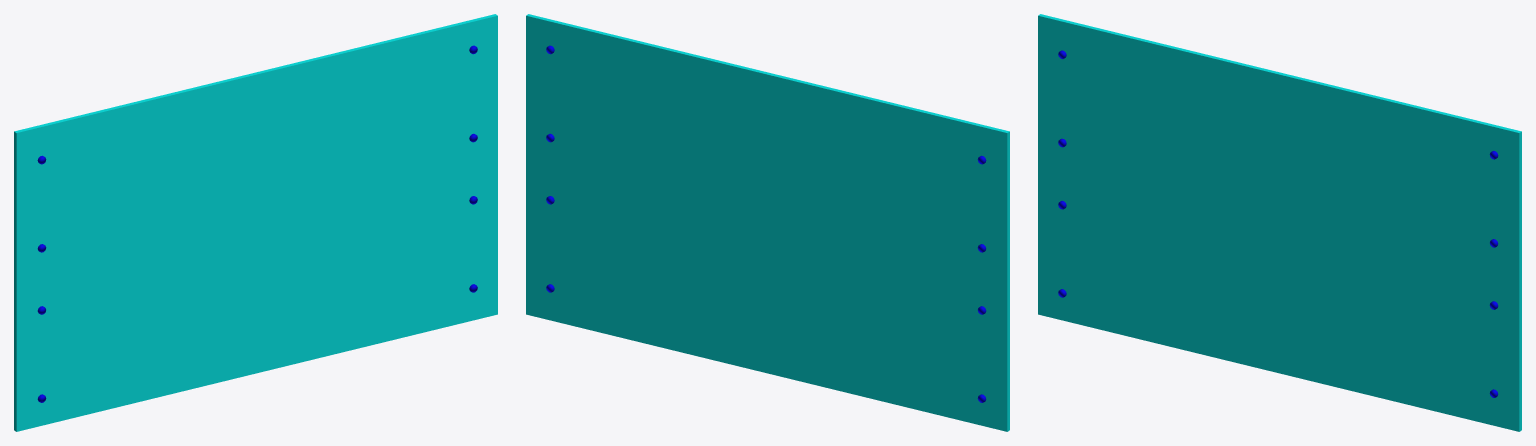
File: cuadro_12_low.fbx
The picture shows the model from 3 angles, left to right: view 1: azimuth 30°, elevation 25°; view 2: azimuth 150°, elevation 25°; view 3: azimuth 330°, elevation 25°; orthographic projection.
Visible parts, largest first — view 1: vidrio_superior, vidrio_inferior; view 2: vidrio_superior, vidrio_inferior; view 3: vidrio_superior, vidrio_inferior.
Part boxes in pixels (x1,y1,x2,y2): vidrio_superior: (14,14,497,282); vidrio_inferior: (14,165,497,431); vidrio_superior: (526,14,1009,282); vidrio_inferior: (526,165,1009,431); vidrio_superior: (1038,14,1521,282); vidrio_inferior: (1038,165,1521,431).
Bounding box in the file's own units: 118 × 70 × 2.
